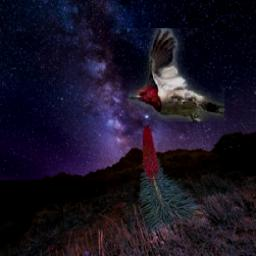Woodpecker: (129, 28, 224, 122)
